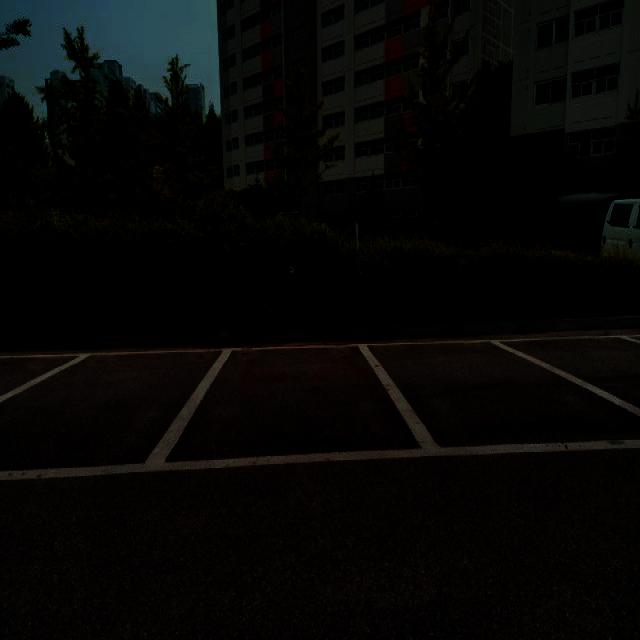empty: (169, 346, 430, 470), (361, 341, 636, 457), (4, 350, 225, 474)
